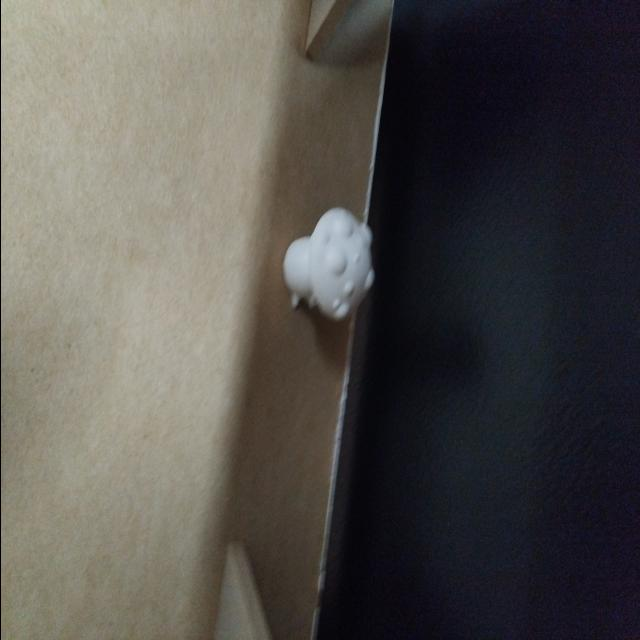Hongo: (275, 193, 381, 330)
